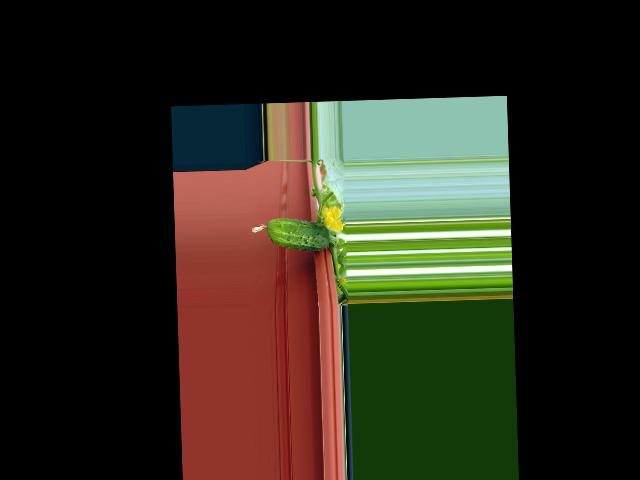cucumber: (250, 216, 330, 252)
